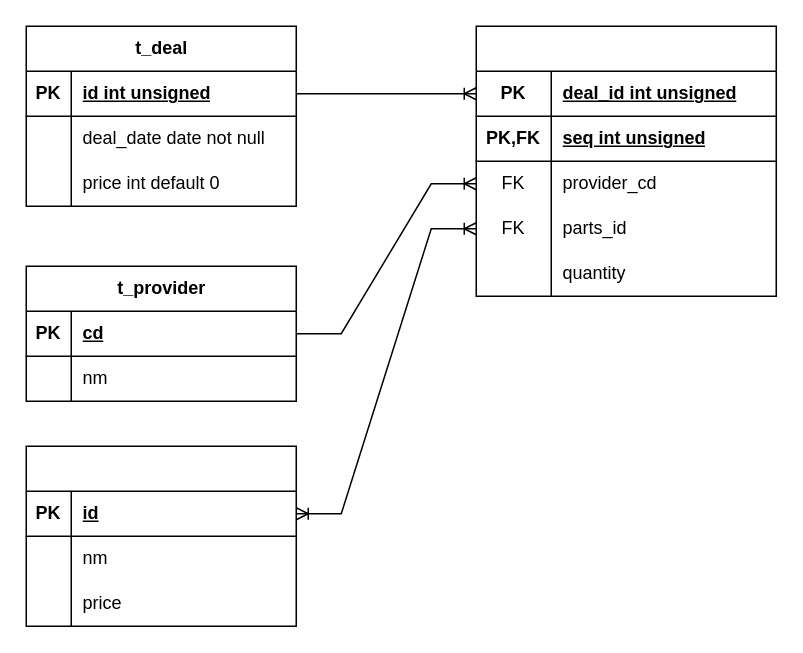
This 803x653 diagram has some shape labels left out. The box of each missing label's shape, as (x1, y1, x2, y2) in pixels:
t_deal_sub: (475, 25, 776, 296)
t_parts: (25, 445, 296, 626)
